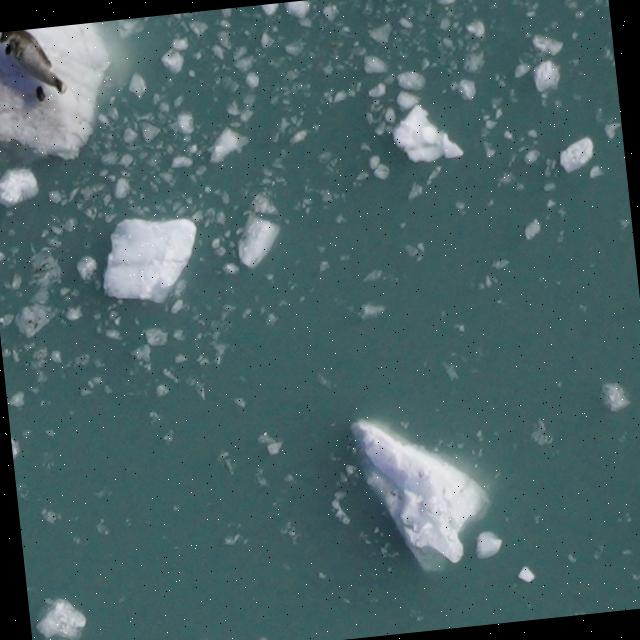seal: (0, 25, 72, 104)
